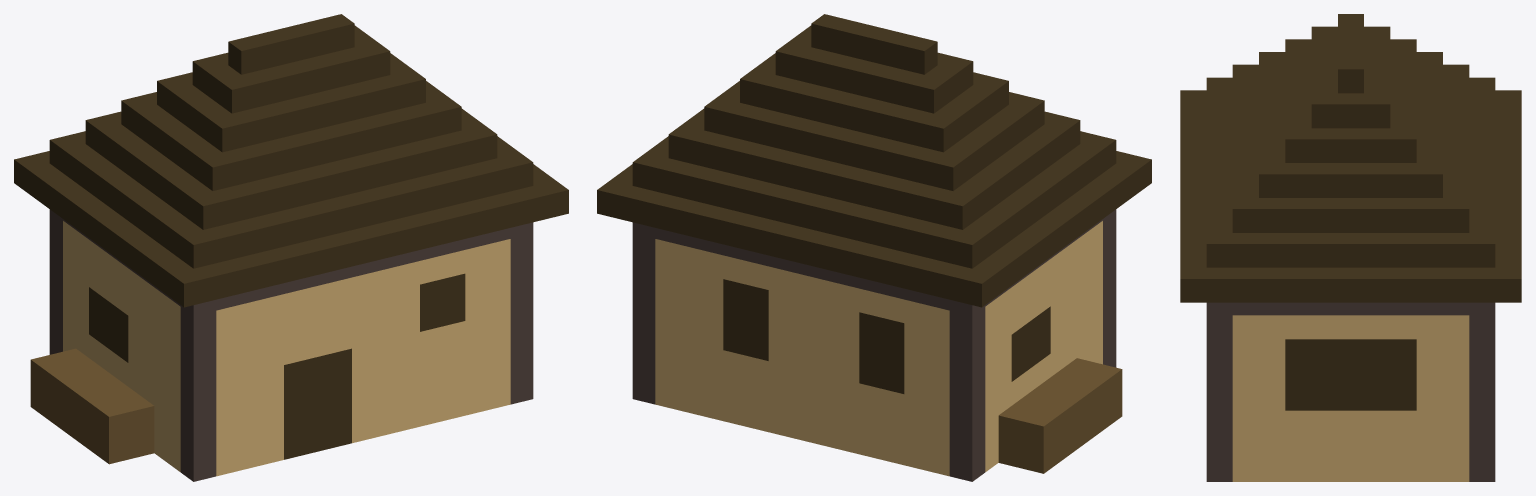
Rendered from house-small.obj.
The picture shows the model from 3 angles, left to right: view 1: azimuth 30°, elevation 25°; view 2: azimuth 150°, elevation 25°; view 3: azimuth 270°, elevation 25°; orthographic projection.
Visible parts, largest first — view 1: house-small; view 2: house-small; view 3: house-small.
Boxes of the visible parts, x1=… form: house-small: x1=14, y1=14, x2=568, y2=481; house-small: x1=597, y1=14, x2=1151, y2=481; house-small: x1=1180, y1=14, x2=1521, y2=481.
Bounding box in the file's own units: 18 × 15 × 13.
1 material, 1 textured.
